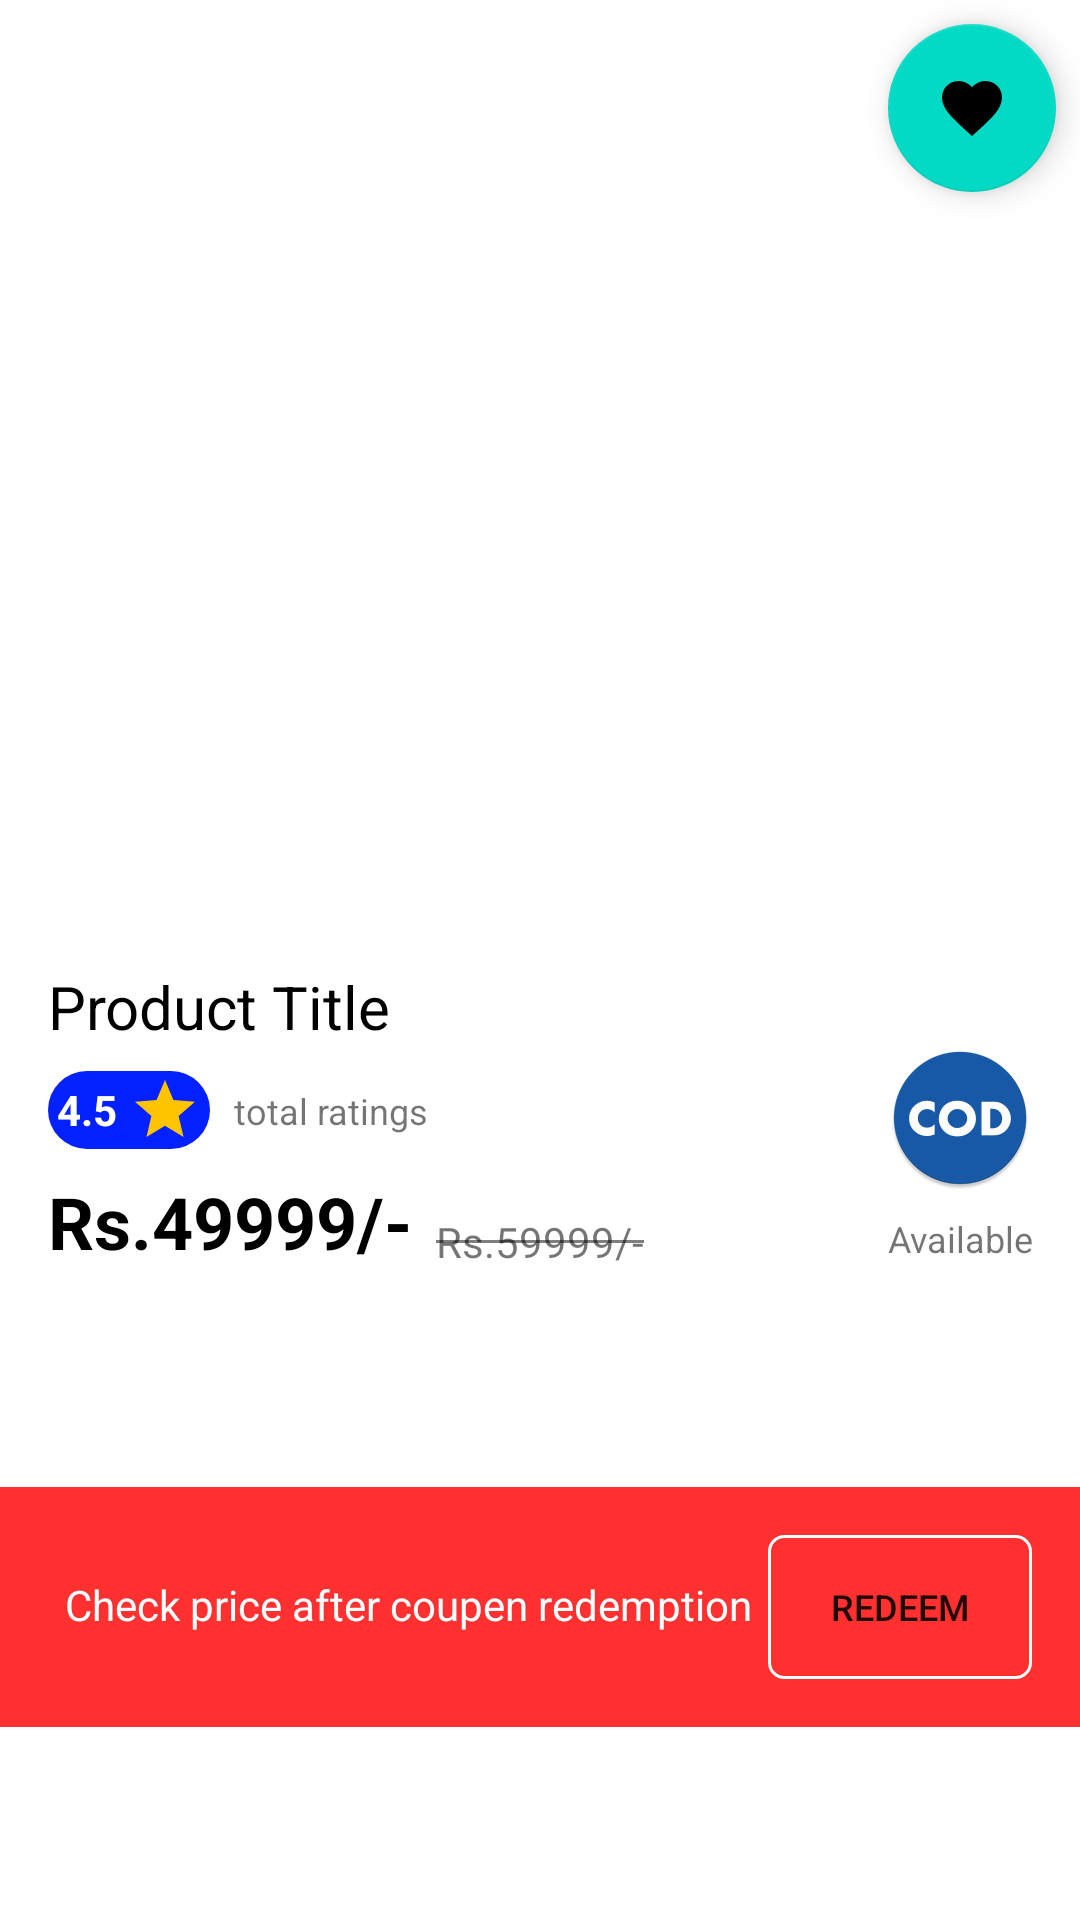

Named icons in this screenshot (1080 x 1920) and their centers, (x,y):
favorite: (972,108)
star: (165,1110)
